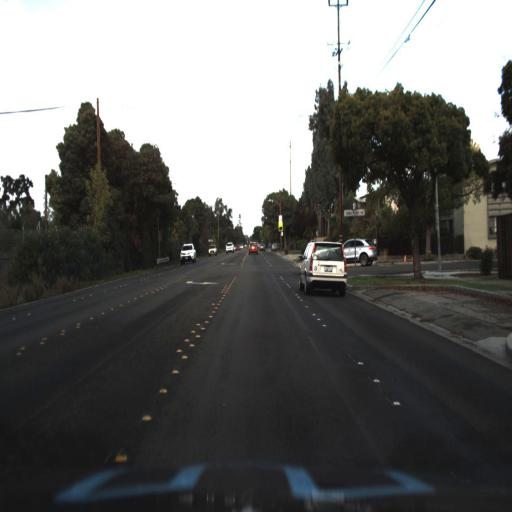car: (298, 239, 346, 302), (340, 239, 375, 264), (177, 242, 198, 269), (206, 242, 220, 260), (247, 243, 260, 260), (224, 238, 234, 254)
